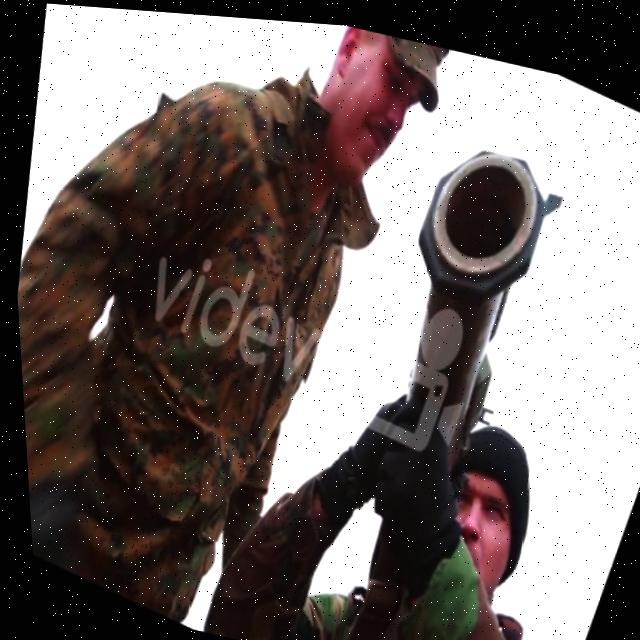rocket: (338, 103, 587, 471)
